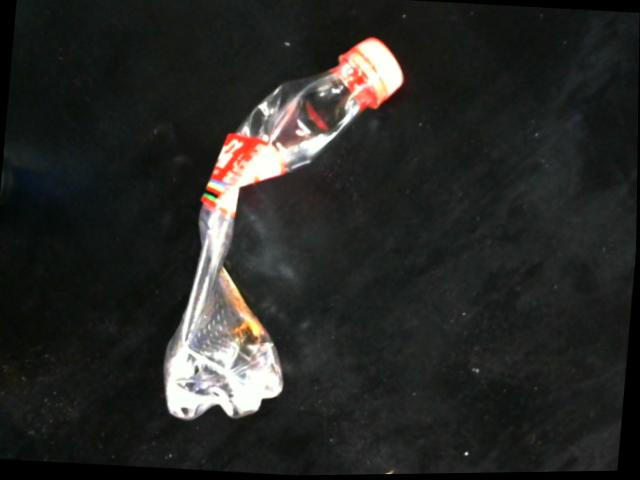bottle: (165, 34, 404, 424)
